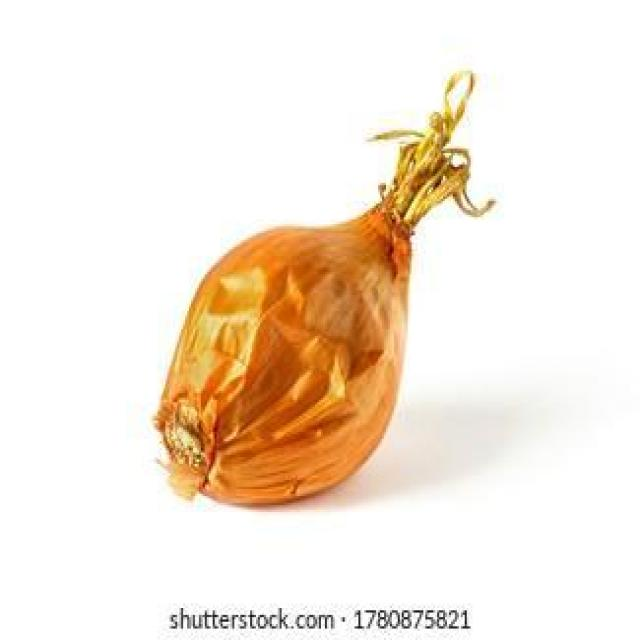Onion: (152, 73, 496, 512)
